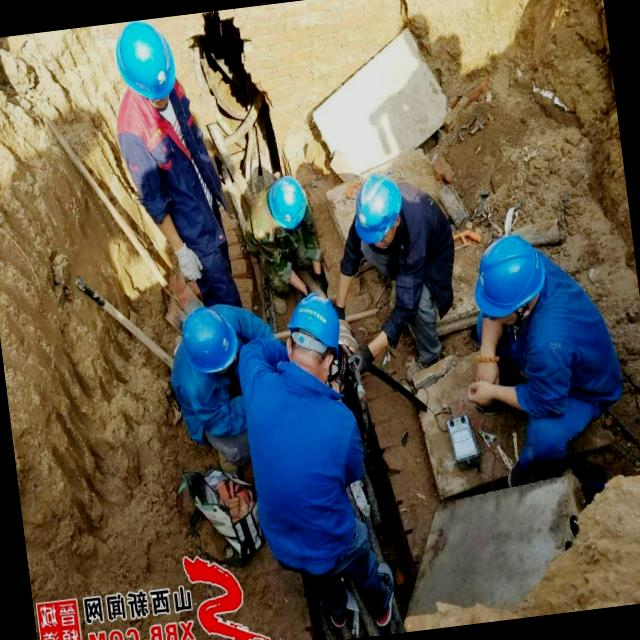helmet: (466, 224, 550, 326), (109, 18, 183, 108), (174, 302, 245, 378), (348, 172, 410, 252), (280, 287, 348, 358), (259, 166, 314, 243)
no-vest: (237, 370, 371, 587), (124, 103, 224, 280), (524, 274, 612, 426), (392, 183, 457, 334), (174, 376, 226, 442)
